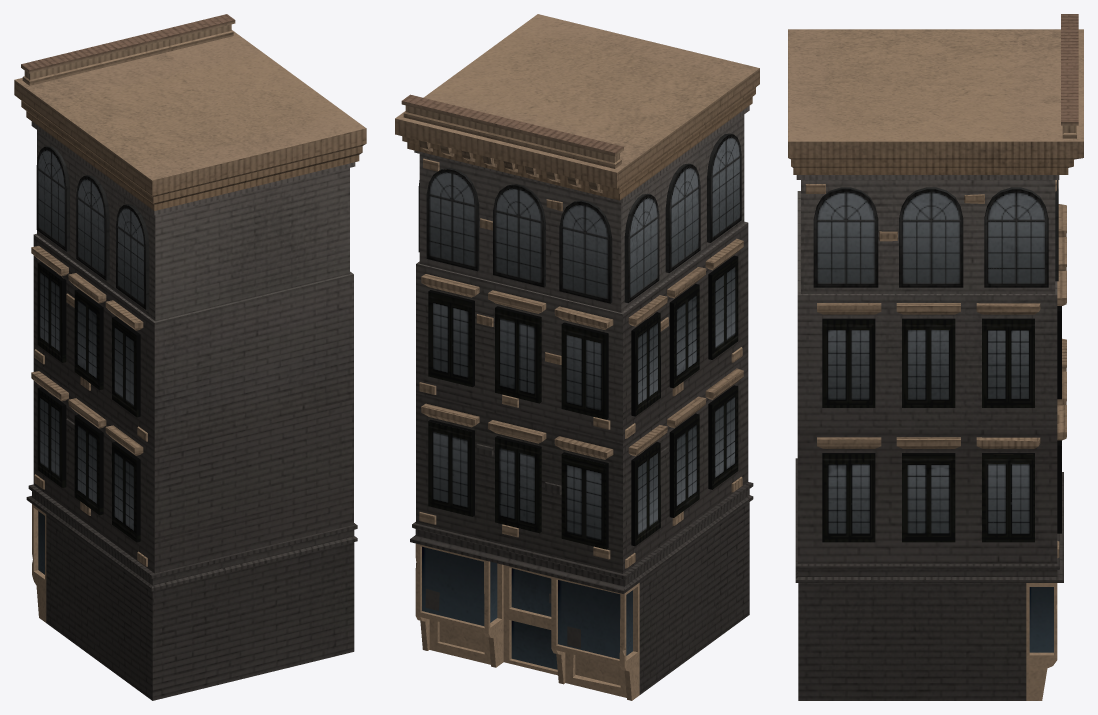
File: BLD1210007.fbx
3 renders of one model, left to right at view 1: azimuth 30°, elevation 25°; view 2: azimuth 150°, elevation 25°; view 3: azimuth 270°, elevation 25°, orthographic. The views are drawn at different scales.
Parts seen in each view (by area): view 1: smBLD1210007; view 2: smBLD1210007; view 3: smBLD1210007.
Boxes of the visible parts, bbox=[...] form: smBLD1210007: bbox=[14, 14, 366, 700]; smBLD1210007: bbox=[395, 14, 759, 700]; smBLD1210007: bbox=[788, 14, 1083, 700].
Size of the model in its own units: 632 by 1518 by 700.
Materials: 1 (1 with a texture image).
